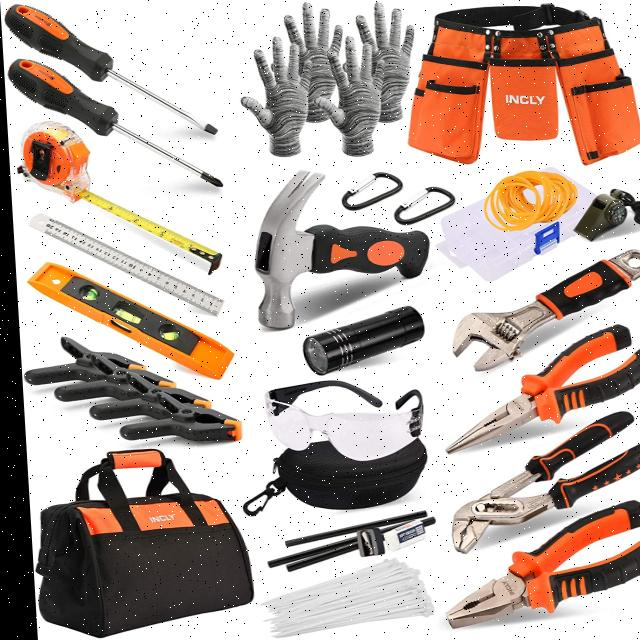Screwdriver: (5, 5, 216, 134), (7, 60, 220, 186)
